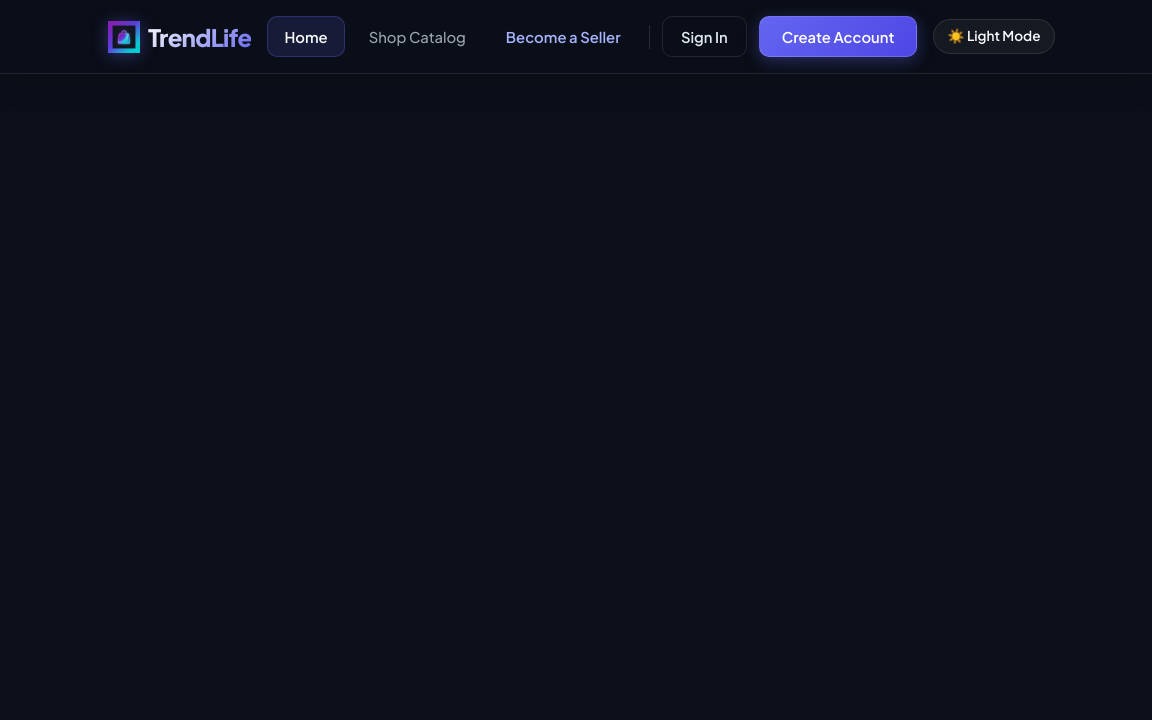
it: Header Component › toggles theme when theme button is clicked
# Click the button to toggle to light mode
Click the button titled "Switch to Light Mode".
click(994, 37)  # box [933,19,1055,54]
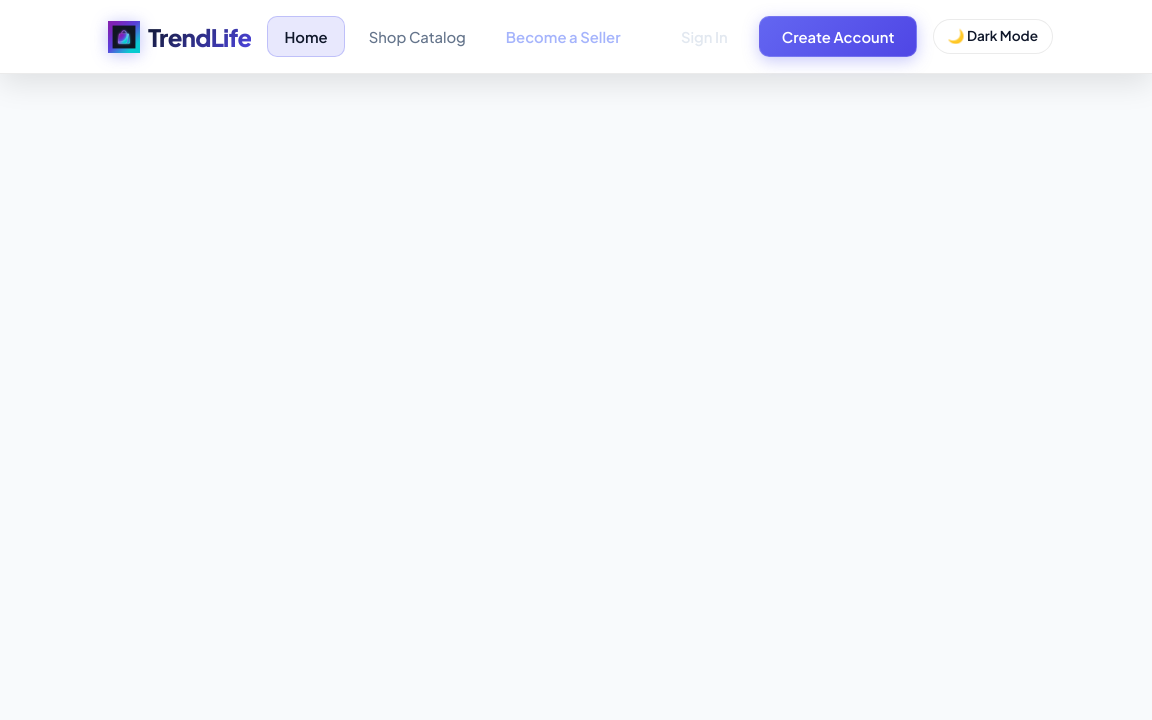
Result: the button titled "Switch to Dark Mode" is shown at [933,19,1053,54]
